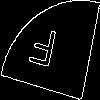F: (25, 25, 59, 78)
